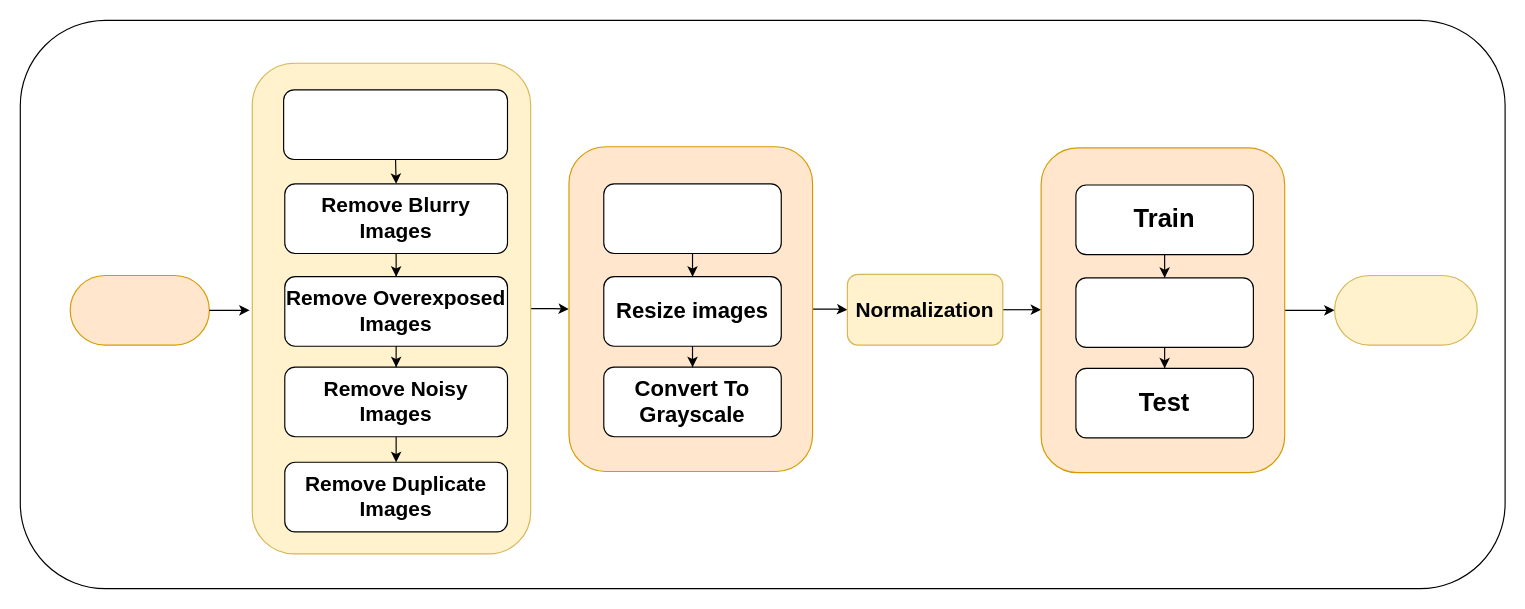
This 1525x609 diagram has some shape labels left out. The centre of each missing label's shape, as x and y in pixels:
Data Input: point 139,309
Data Output: point 1405,309
Fix Class Imbalance: point 692,218
Remove Corrupted Images: point 394,124
Val: point 1164,312
